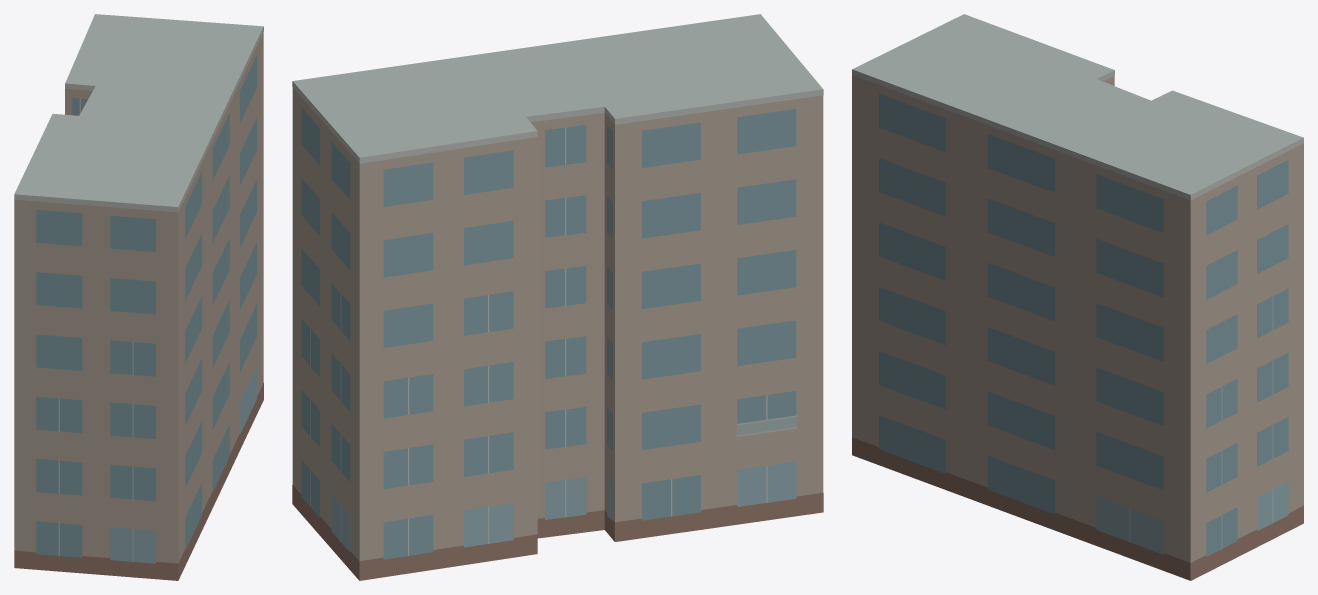
File: survey-upis-32824731.glb
The picture shows the model from 3 angles, left to right: view 1: azimuth 30°, elevation 25°; view 2: azimuth 150°, elevation 25°; view 3: azimuth 270°, elevation 25°; orthographic projection. The views are drawn at different scales.
Parts seen in each view (by area): view 1: survey-upis-32824731.tmp; view 2: survey-upis-32824731.tmp; view 3: survey-upis-32824731.tmp.
Part boxes in pixels (x1=…): survey-upis-32824731.tmp: x1=14, y1=14, x2=263, y2=580; survey-upis-32824731.tmp: x1=292, y1=14, x2=823, y2=580; survey-upis-32824731.tmp: x1=852, y1=14, x2=1303, y2=580.
Size of the model in its own units: 17.37 by 17.26 by 18.32.
